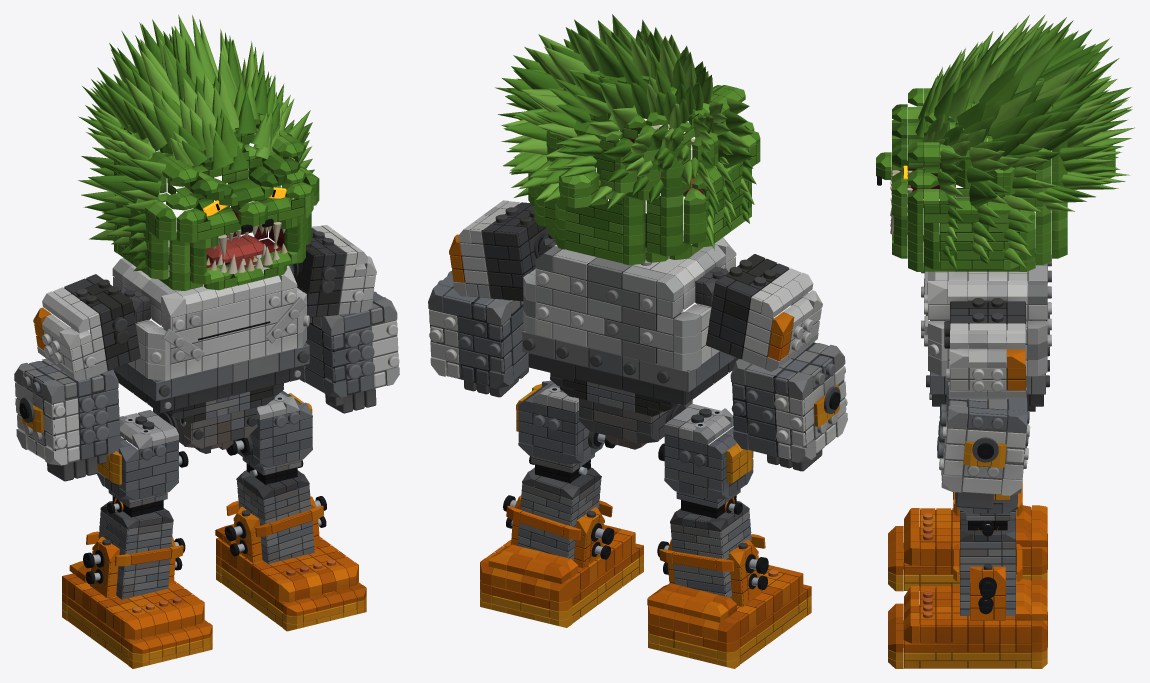
Rendered from pixel-mech-zver.glb.
3 views of the same model, side by side, from view 1: azimuth 30°, elevation 25°; view 2: azimuth 150°, elevation 25°; view 3: azimuth 270°, elevation 25° (orthographic). The views are drawn at different scales.
Visible parts, largest first — view 1: zver_greben, korpus_plastic, lico_zver_plastic, rukaL_naruch_plastic, stupnyaL_plastic, stupnyaR_plastic, rukaL_plastic, rukaR_naruch_plastic, nogaL_plastic, rukaR_plastic, nogaR_plastic, nogaR_golen_plastic (+7 smaller); view 2: zver_greben, korpus_plastic, lico_zver_plastic, rukaL_naruch_plastic, stupnyaL_plastic, rukaL_plastic, stupnyaR_plastic, rukaR_naruch_plastic, nogaL_plastic, rukaR_plastic, nogaR_plastic, nogaR_golen_plastic (+6 smaller); view 3: zver_greben, lico_zver_plastic, stupnyaR_plastic, korpus_plastic, rukaR_naruch_plastic, rukaR_plastic, stupnyaL_plastic, nogaR_golen_plastic, stupnyaR_manzhet_plastic, nogaR_plastic, rukaR_naruch_metal, stupnyaR_manzhet_metal.
Part boxes in pixels (<box>): zver_greben: <box>78,14,314,271</box>; korpus_plastic: <box>112,236,309,423</box>; lico_zver_plastic: <box>106,84,319,290</box>; rukaL_naruch_plastic: <box>14,358,120,481</box>; stupnyaL_plastic: <box>62,561,212,668</box>; stupnyaR_plastic: <box>215,524,366,631</box>; rukaL_plastic: <box>33,274,140,381</box>; rukaR_naruch_plastic: <box>300,291,399,413</box>; nogaL_plastic: <box>97,410,178,517</box>; rukaR_plastic: <box>276,225,376,317</box>; nogaR_plastic: <box>234,390,312,484</box>; nogaR_golen_plastic: <box>236,470,314,565</box>; zver_greben: <box>495,14,756,250</box>; korpus_plastic: <box>522,230,738,416</box>; lico_zver_plastic: <box>528,70,760,265</box>; rukaL_naruch_plastic: <box>730,341,847,471</box>; stupnyaL_plastic: <box>647,565,811,668</box>; rukaL_plastic: <box>706,254,822,371</box>; stupnyaR_plastic: <box>480,525,643,627</box>; rukaR_naruch_plastic: <box>428,271,528,397</box>; nogaL_plastic: <box>664,403,753,518</box>; rukaR_plastic: <box>449,200,548,301</box>; nogaR_plastic: <box>516,380,604,483</box>; nogaR_golen_plastic: <box>517,467,601,560</box>; zver_greben: <box>915,14,1134,270</box>; lico_zver_plastic: <box>876,78,1115,271</box>; stupnyaR_plastic: <box>888,579,1047,668</box>; korpus_plastic: <box>921,227,1051,411</box>; rukaR_naruch_plastic: <box>937,382,1030,509</box>; rukaR_plastic: <box>944,298,1025,399</box>; stupnyaL_plastic: <box>888,505,1047,591</box>; nogaR_golen_plastic: <box>960,516,1015,616</box>; stupnyaR_manzhet_plastic: <box>953,544,1022,620</box>; nogaR_plastic: <box>958,492,1017,531</box>; rukaR_naruch_metal: <box>972,391,998,462</box>; stupnyaR_manzhet_metal: <box>978,577,996,614</box>.
Bounding box in the file's own units: 21.93 × 32.23 × 12.99.
